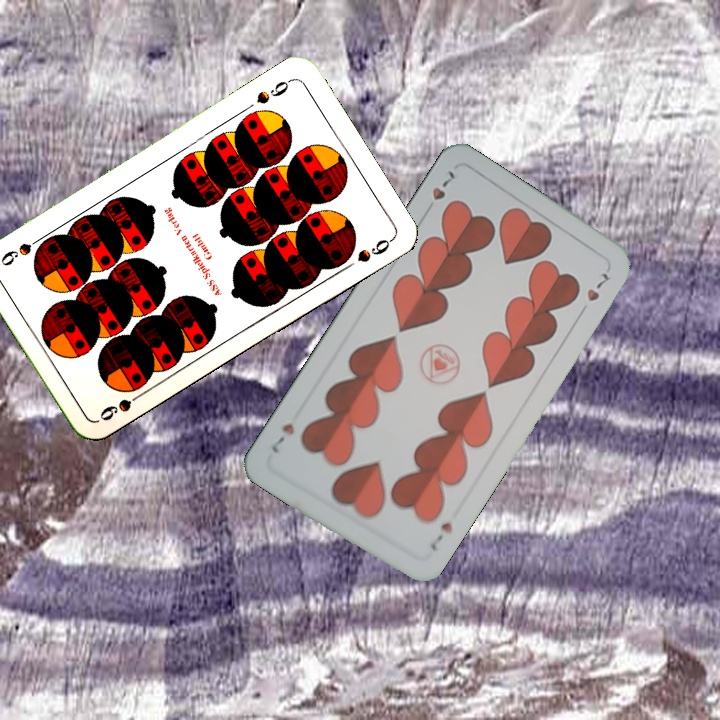H7: (428, 167, 458, 204), (426, 518, 455, 554)
S9: (95, 386, 148, 424), (252, 74, 295, 107)
